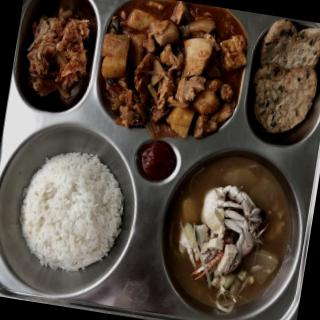Nasi: (4, 146, 137, 285)
